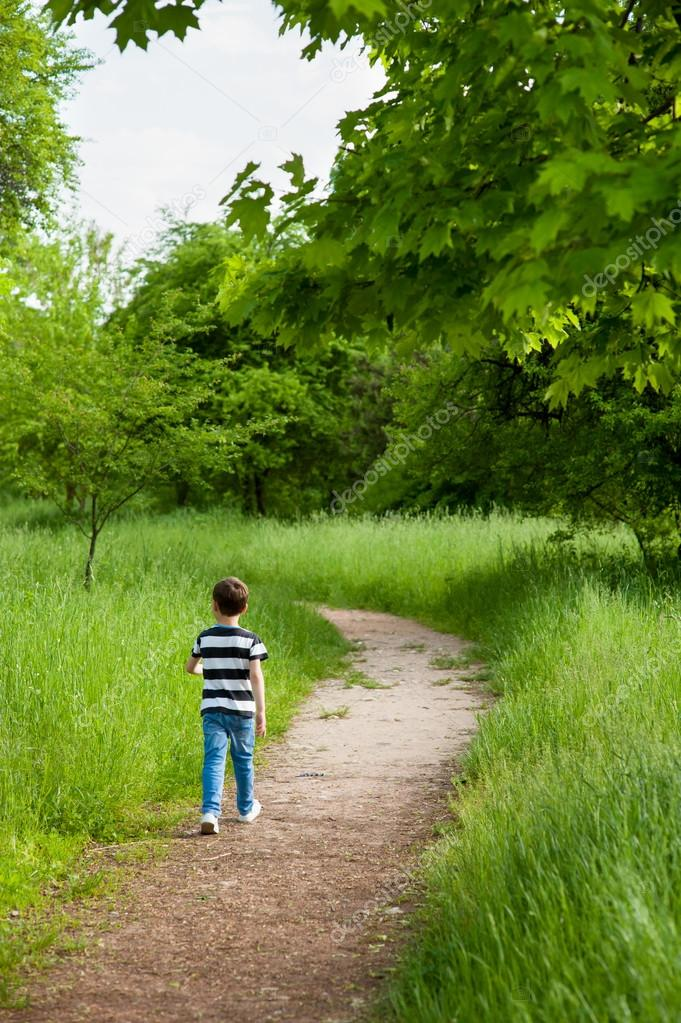person: (177, 570, 278, 847)
